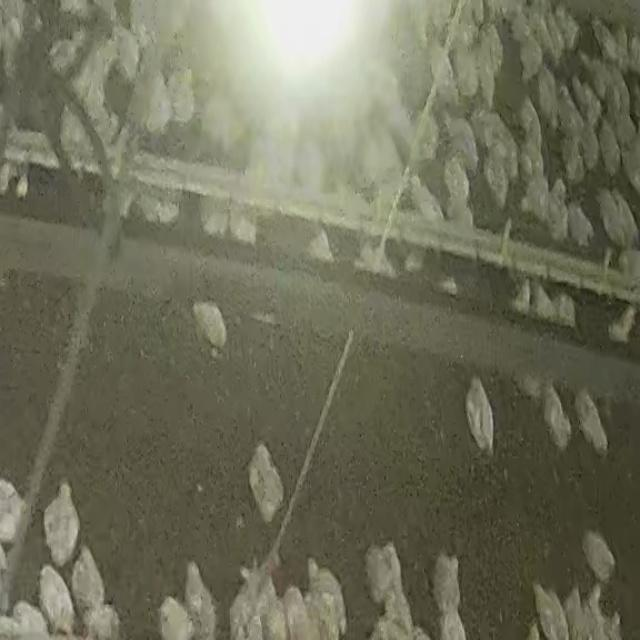chicken: (304, 558, 347, 638), (40, 483, 80, 568), (242, 442, 282, 520), (37, 563, 77, 633), (363, 542, 404, 606), (573, 387, 609, 455), (531, 581, 570, 640), (540, 384, 573, 452), (72, 546, 106, 612), (465, 378, 495, 452), (597, 189, 632, 248), (143, 74, 176, 135), (191, 300, 228, 354), (443, 114, 480, 168), (581, 528, 616, 584), (408, 175, 446, 225), (184, 560, 212, 627), (431, 552, 462, 610), (154, 595, 192, 640), (483, 144, 510, 206), (596, 118, 624, 177), (113, 28, 142, 84), (0, 483, 28, 541), (50, 32, 84, 78), (478, 108, 515, 150), (544, 183, 571, 240), (581, 584, 608, 640), (618, 128, 640, 196), (429, 44, 455, 101), (563, 585, 592, 636), (7, 602, 50, 636), (166, 68, 194, 120), (582, 53, 611, 100), (228, 201, 258, 246), (354, 247, 391, 283), (478, 34, 497, 104), (85, 602, 120, 640), (282, 586, 306, 640), (384, 595, 413, 639), (538, 65, 558, 127), (570, 76, 600, 117), (454, 45, 478, 96), (558, 85, 581, 136), (569, 200, 593, 248), (200, 199, 230, 237), (136, 196, 178, 223), (556, 5, 580, 52), (517, 35, 540, 83), (561, 135, 584, 181), (519, 97, 540, 147), (530, 281, 556, 320), (521, 178, 546, 218), (438, 607, 468, 640), (518, 141, 542, 182), (442, 163, 468, 200), (592, 17, 614, 59), (446, 194, 474, 225), (512, 280, 533, 316), (614, 26, 630, 70), (555, 298, 577, 330), (582, 131, 598, 170), (604, 87, 620, 122), (628, 35, 640, 75)
